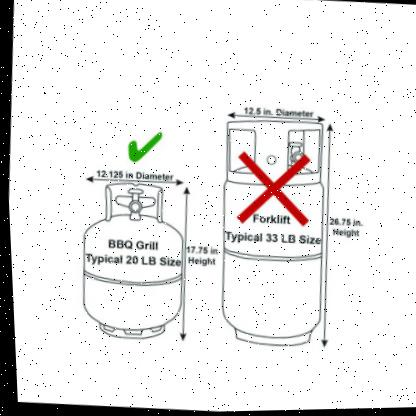gas-tank: (203, 114, 342, 360), (56, 174, 201, 349)
